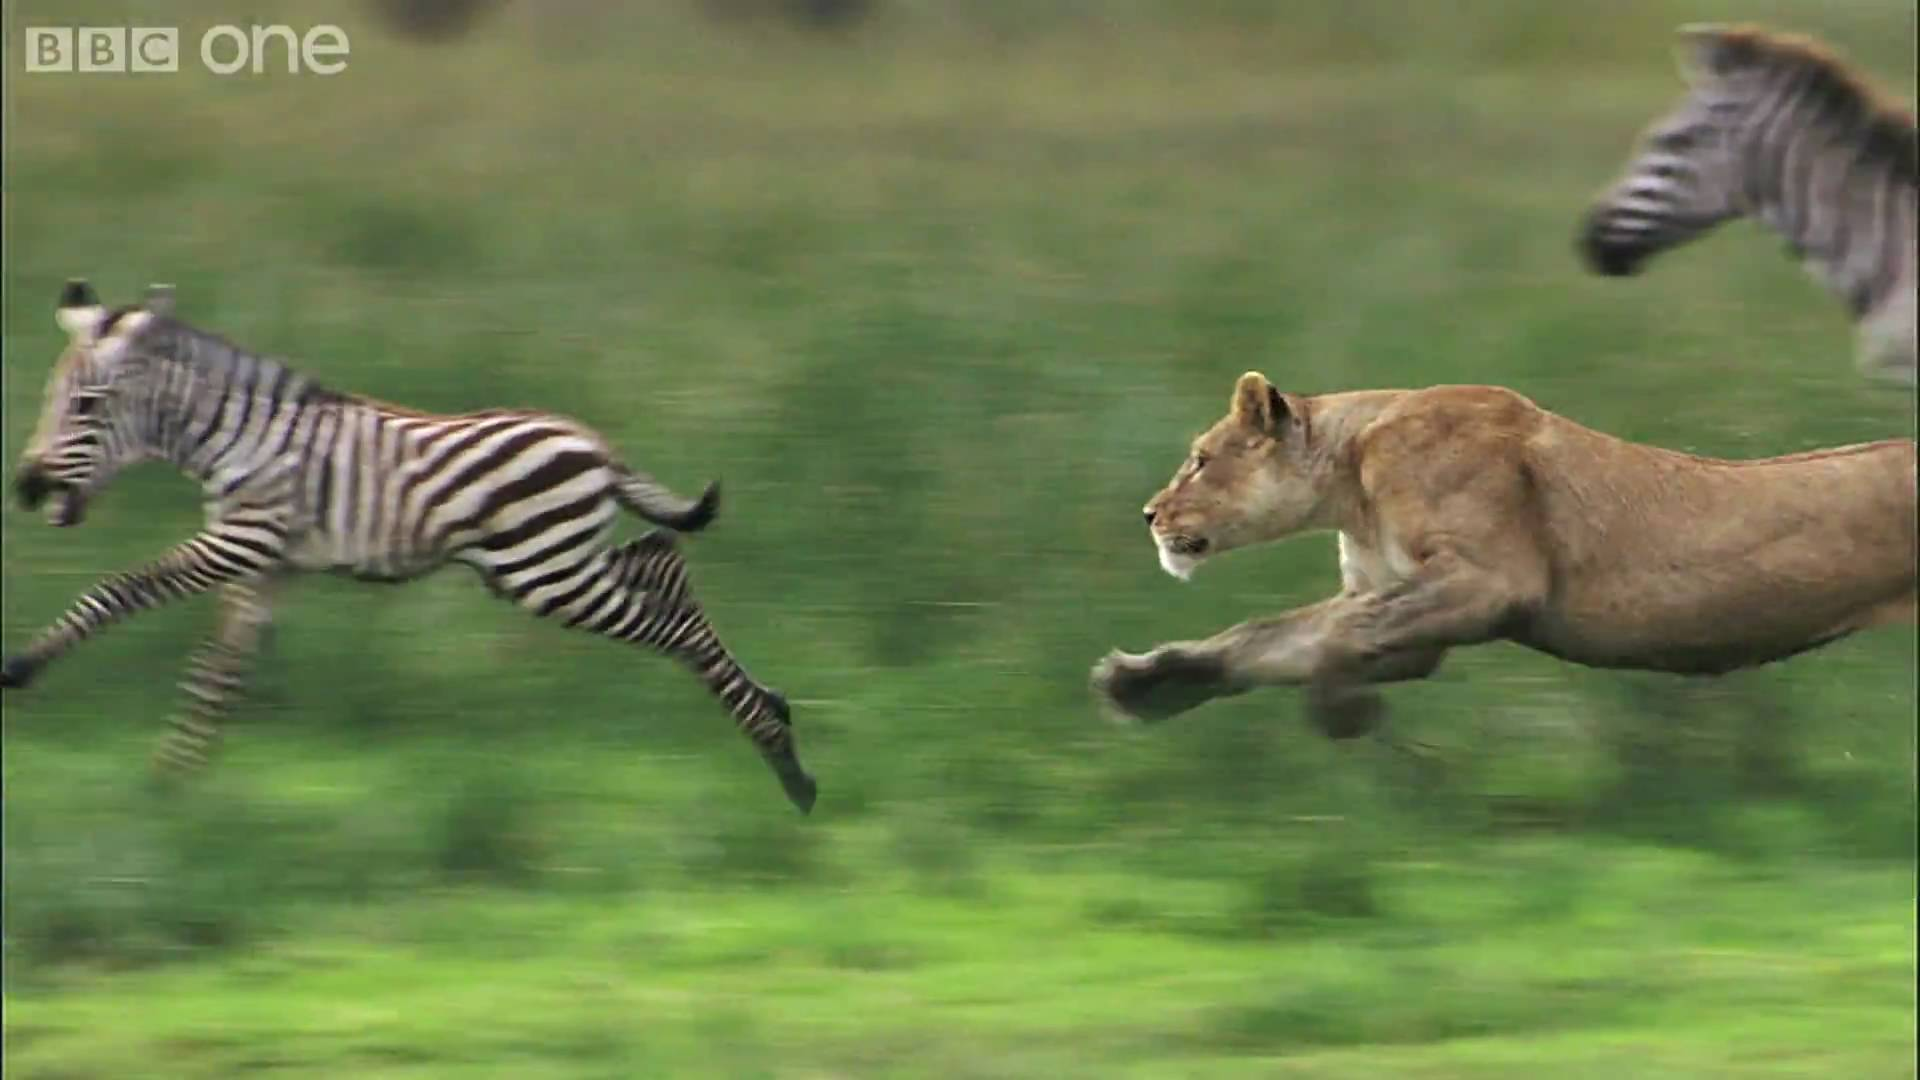lion: (1077, 355, 1920, 758)
zebra: (1, 285, 820, 816), (1572, 22, 1920, 342)
